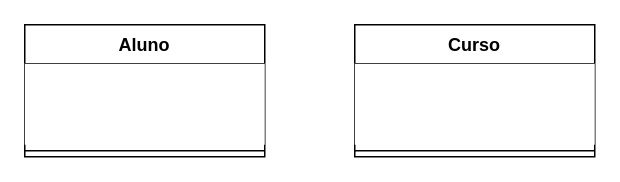
This 620x182 diagram has some shape labels left out. Each missing label, with the centre of its shape:
+ nome: String + codigoDeCurso: Int: (474,103)
+ nome: String + sobrenome: String + codigoDeAluno: Int: (144,103)
